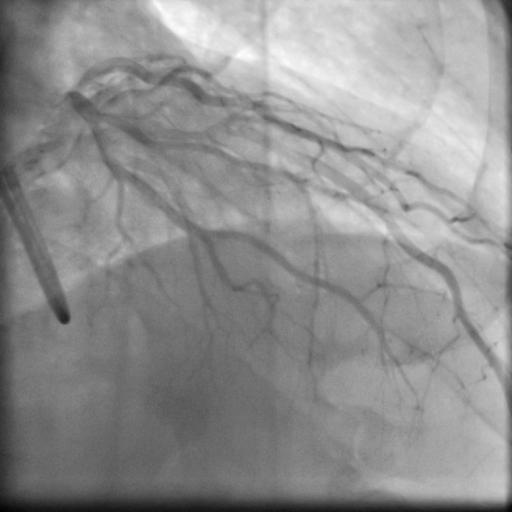Stenosis: (148, 130, 207, 150)
